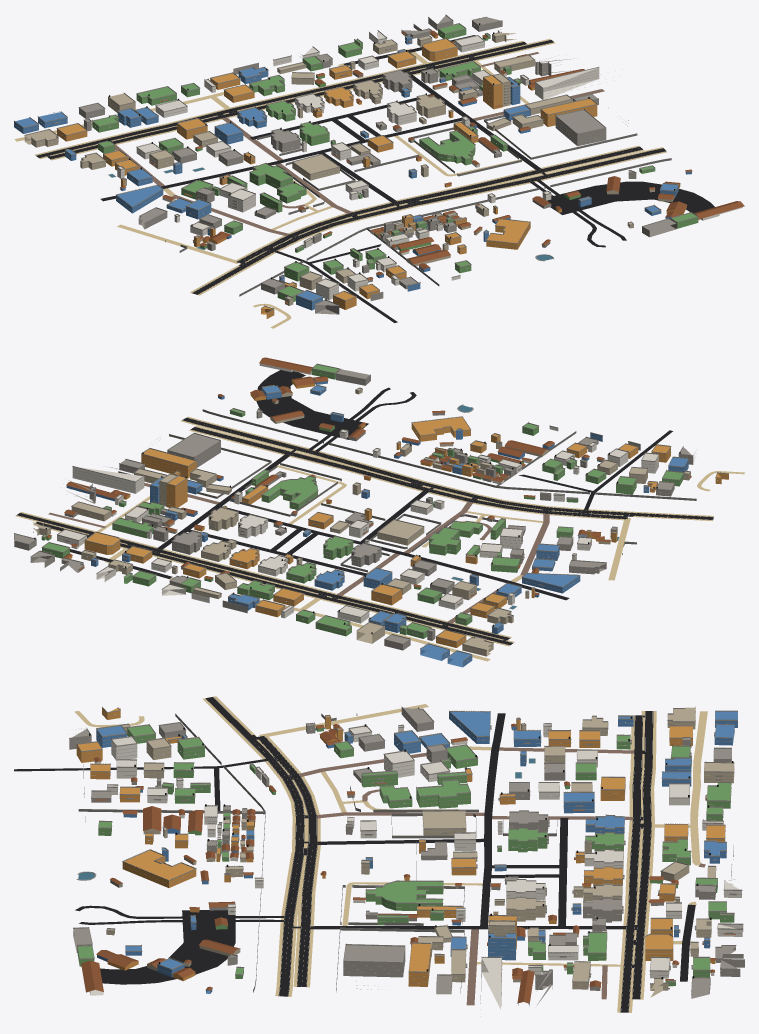
Rendered from zone_t2_0.glb.
The picture shows the model from 3 angles, top to bottom: view 1: azimuth 30°, elevation 25°; view 2: azimuth 150°, elevation 25°; view 3: azimuth 270°, elevation 25°; orthographic projection. The views are drawn at different scales.
Parts seen in each view (by area): view 1: parapet_t2_0, bld_peinture_vert_t2_0-col, bld_peinture_ocre_t2_0-col, bld_beton_t2_0-col, bld_peinture_ecaillee_t2_0-col, bld_peinture_blanc_t2_0-col, route_primary_bitume_t2_0, bld_peinture_bleu_t2_0-col, accotement_t2_0, toit_tole_t2_0, bandeau_t2_0, route_residential_bitume_t2_0 (+6 smaller); view 2: parapet_t2_0, bld_peinture_vert_t2_0-col, bld_peinture_ocre_t2_0-col, bld_peinture_blanc_t2_0-col, bld_beton_t2_0-col, bld_peinture_ecaillee_t2_0-col, route_primary_bitume_t2_0, bld_peinture_bleu_t2_0-col, accotement_t2_0, toit_tole_t2_0, bandeau_t2_0, mur_wall_t2_0-col (+6 smaller); view 3: parapet_t2_0, bld_peinture_vert_t2_0-col, route_primary_bitume_t2_0, bld_peinture_ocre_t2_0-col, bld_beton_t2_0-col, bld_peinture_ecaillee_t2_0-col, bld_peinture_blanc_t2_0-col, bld_peinture_bleu_t2_0-col, accotement_t2_0, toit_tole_t2_0, route_residential_bitume_t2_0, bandeau_t2_0 (+8 smaller).
Boxes of the visible parts, <box> form: parapet_t2_0: <box>14,14,698,312</box>; bld_peinture_vert_t2_0-col: <box>92,24,698,301</box>; bld_peinture_ocre_t2_0-col: <box>57,33,686,318</box>; bld_beton_t2_0-col: <box>79,15,676,314</box>; bld_peinture_ecaillee_t2_0-col: <box>24,31,674,305</box>; bld_peinture_blanc_t2_0-col: <box>117,31,742,300</box>; route_primary_bitume_t2_0: <box>36,40,665,294</box>; bld_peinture_bleu_t2_0-col: <box>14,36,691,310</box>; accotement_t2_0: <box>34,39,666,295</box>; toit_tole_t2_0: <box>120,30,744,280</box>; bandeau_t2_0: <box>14,22,696,314</box>; route_residential_bitume_t2_0: <box>100,35,541,202</box>; parapet_t2_0: <box>14,363,728,661</box>; bld_peinture_vert_t2_0-col: <box>41,364,683,638</box>; bld_peinture_ocre_t2_0-col: <box>68,380,728,647</box>; bld_peinture_blanc_t2_0-col: <box>57,363,658,623</box>; bld_beton_t2_0-col: <box>14,369,693,650</box>; bld_peinture_ecaillee_t2_0-col: <box>33,388,690,656</box>; route_primary_bitume_t2_0: <box>16,417,713,645</box>; bld_peinture_bleu_t2_0-col: <box>66,378,688,667</box>; accotement_t2_0: <box>15,416,713,646</box>; toit_tole_t2_0: <box>46,357,617,594</box>; bandeau_t2_0: <box>14,372,728,664</box>; mur_wall_t2_0-col: <box>118,409,696,572</box>; parapet_t2_0: <box>69,706,744,997</box>; bld_peinture_vert_t2_0-col: <box>77,725,734,986</box>; route_primary_bitume_t2_0: <box>205,697,653,1012</box>; bld_peinture_ocre_t2_0-col: <box>76,708,725,986</box>; bld_beton_t2_0-col: <box>69,707,744,1004</box>; bld_peinture_ecaillee_t2_0-col: <box>106,707,734,997</box>; bld_peinture_blanc_t2_0-col: <box>89,724,743,1009</box>; bld_peinture_bleu_t2_0-col: <box>96,711,737,1006</box>; accotement_t2_0: <box>202,696,656,1012</box>; toit_tole_t2_0: <box>81,723,715,1003</box>; route_residential_bitume_t2_0: <box>310,713,695,981</box>; bandeau_t2_0: <box>69,711,744,1016</box>.
Size of the model in its own units: 591 by 26 by 558.
